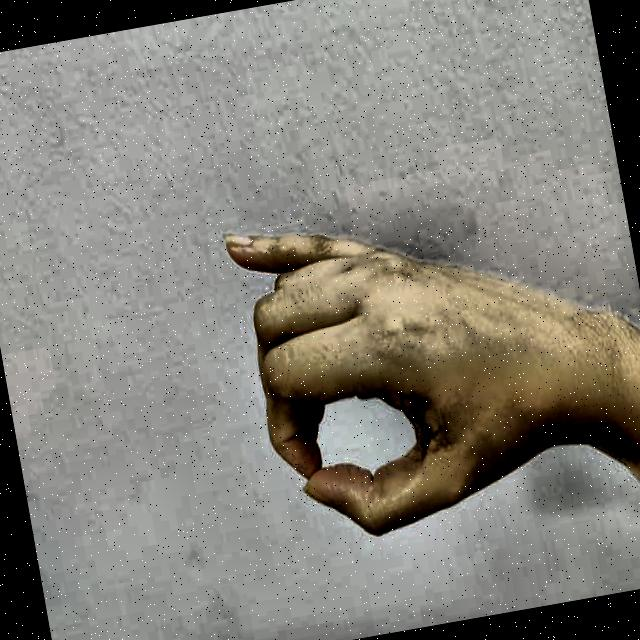Ou: (185, 129, 600, 587)
